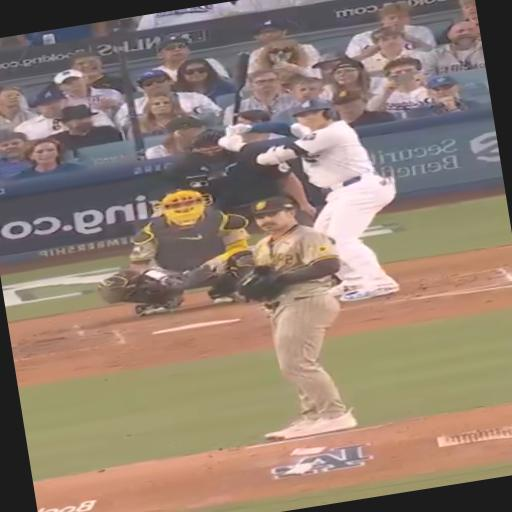bat: (232, 52, 249, 124)
